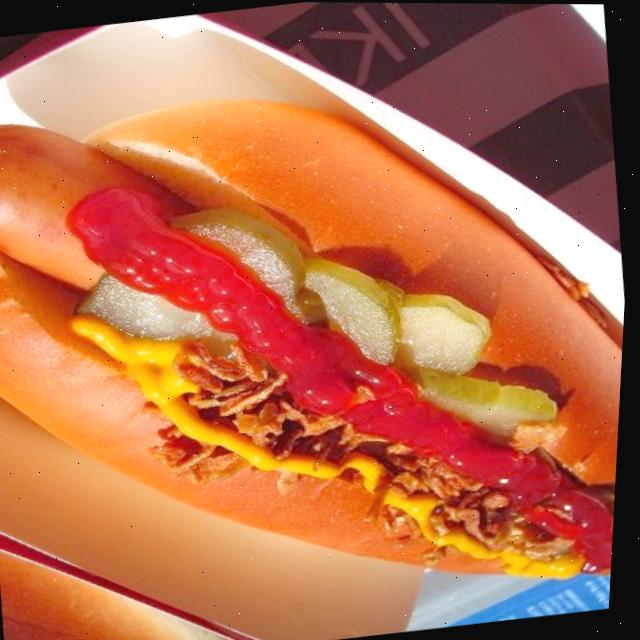汉堡快餐: (0, 29, 639, 640)
